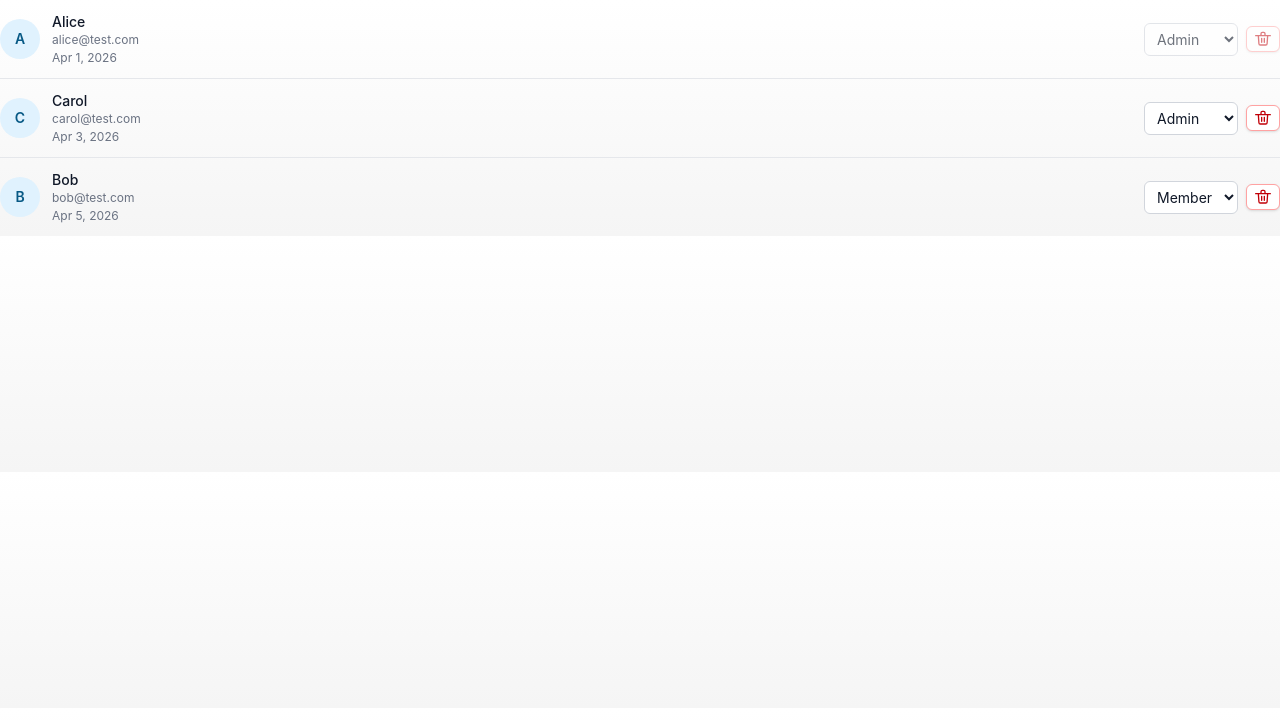
MemberManagement › closes dialog on cancel
Click the button with test id "remove-member-btn-user-2" at (1263, 197), box [1246, 184, 1279, 210]
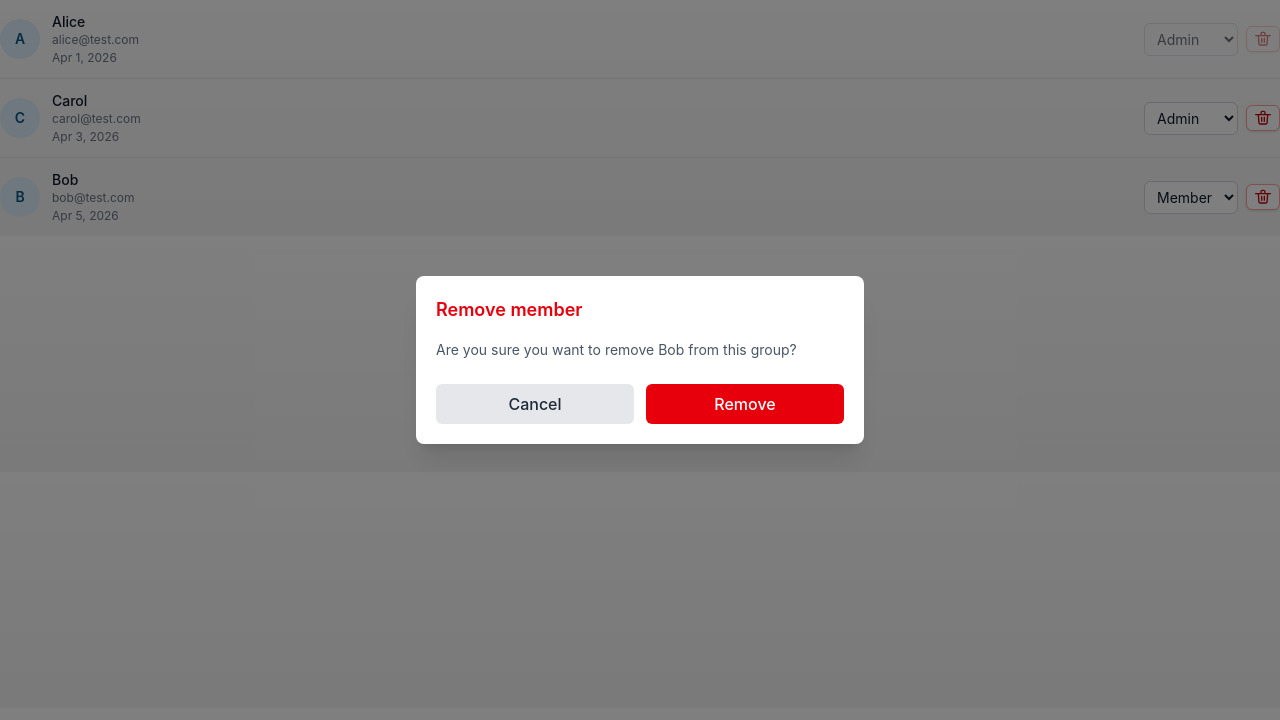
Expected: the dialog with test id "remove-member-dialog" is shown, [416, 276, 864, 444]
Click the button with test id "remove-member-cancel-btn" at (535, 404), box [436, 384, 634, 424]
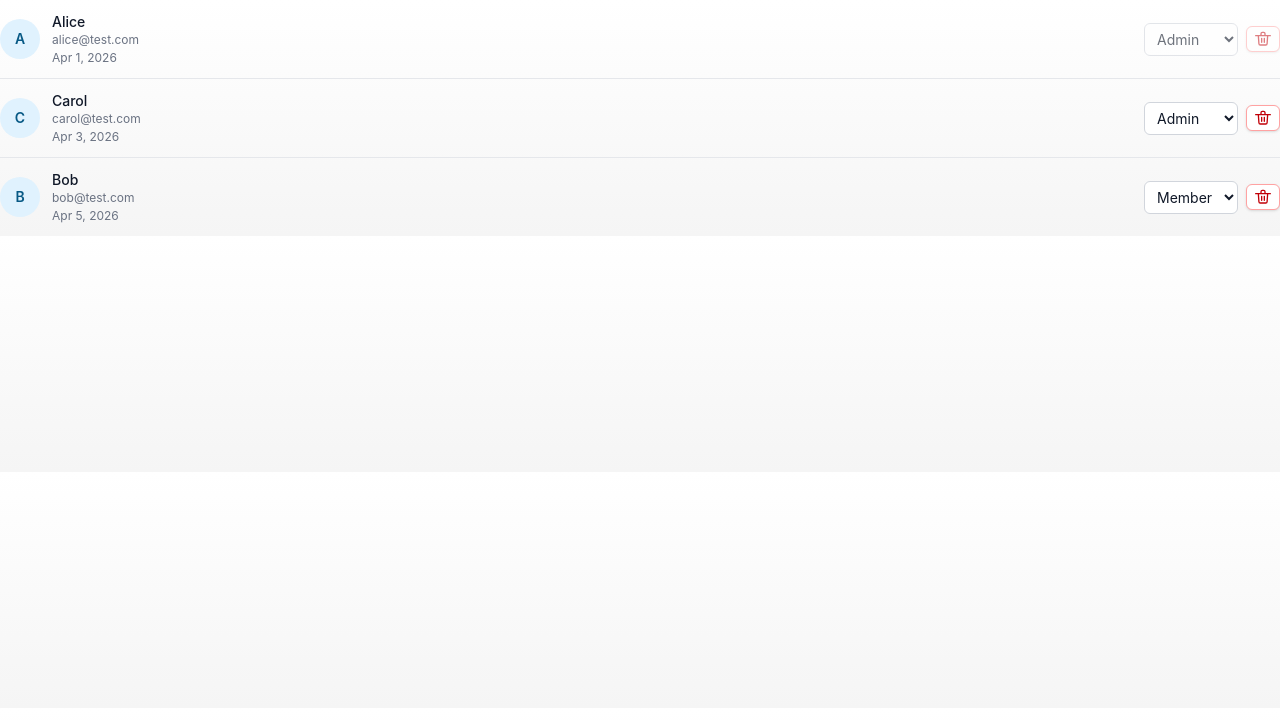
Expected: the dialog with test id "remove-member-dialog" is gone
